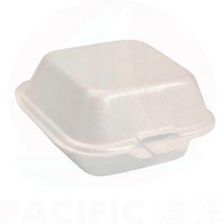foam_box: (10, 34, 218, 180)
